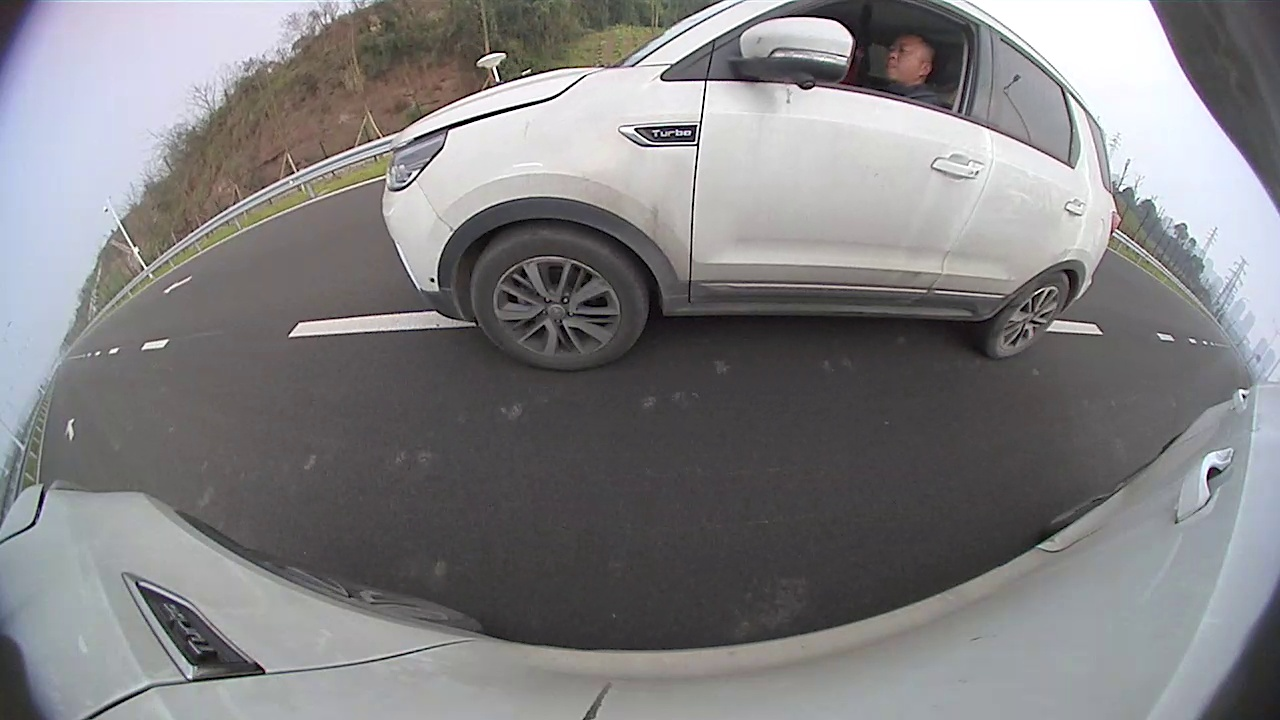car: (380, 1, 1120, 372)
front: (473, 231, 648, 370)
rear: (987, 272, 1070, 358)
